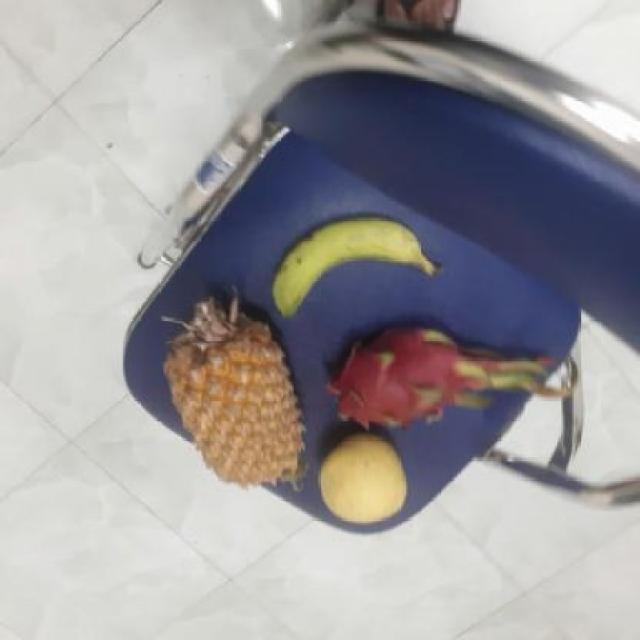banana: (277, 215, 431, 323)
dragon fruit: (333, 322, 499, 429)
pear: (316, 432, 412, 525)
pineapple: (151, 339, 303, 492)
